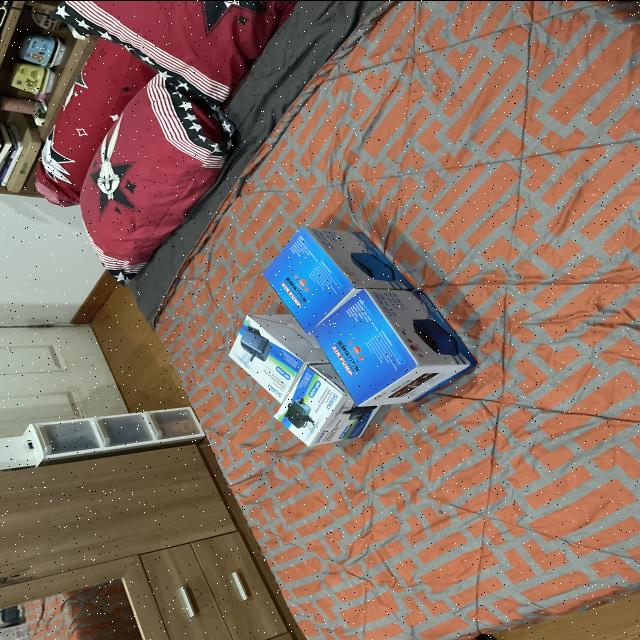SOBO_WP_4200: (200, 300, 326, 406), (259, 359, 379, 441)
YAMANO_LPP_20: (304, 276, 486, 401), (258, 195, 416, 323)
